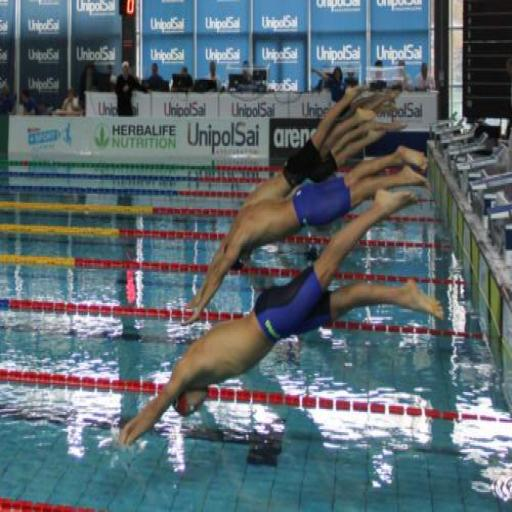swimming: (114, 184, 446, 450), (178, 78, 432, 329)
